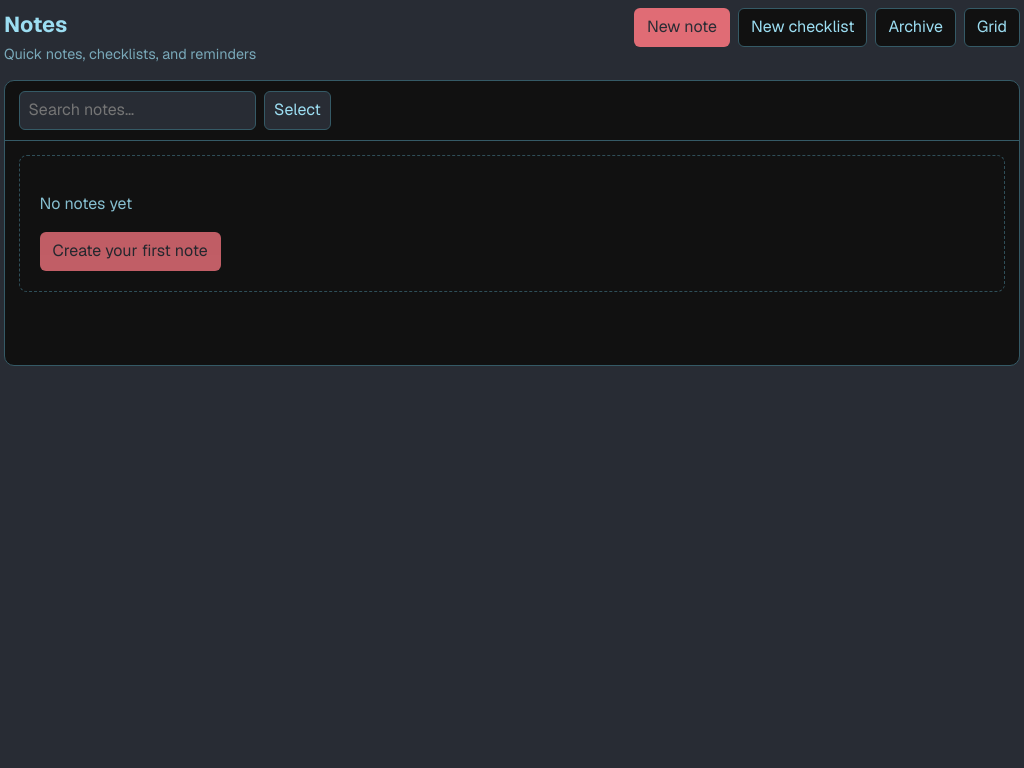
Test: Nexus Notes UI activation › renders without editorOpen ReferenceError and opens the editor dialog
This screenshot has width=1024, height=768.
Expected: the heading "Notes" is shown, x1=4 y1=10 x2=67 y2=38
What coordinates should you click on to do the following:
click the button "New note"
I would click on:
 (682, 27)
Its box is x1=634 y1=8 x2=730 y2=47.
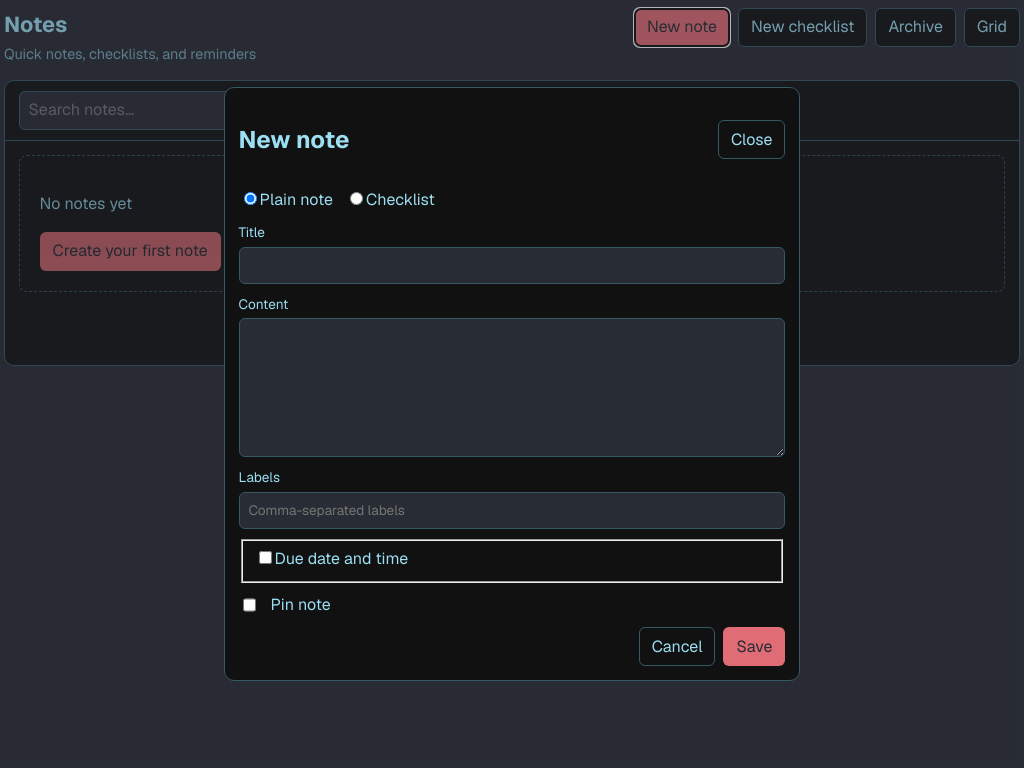
Result: the dialog is shown
